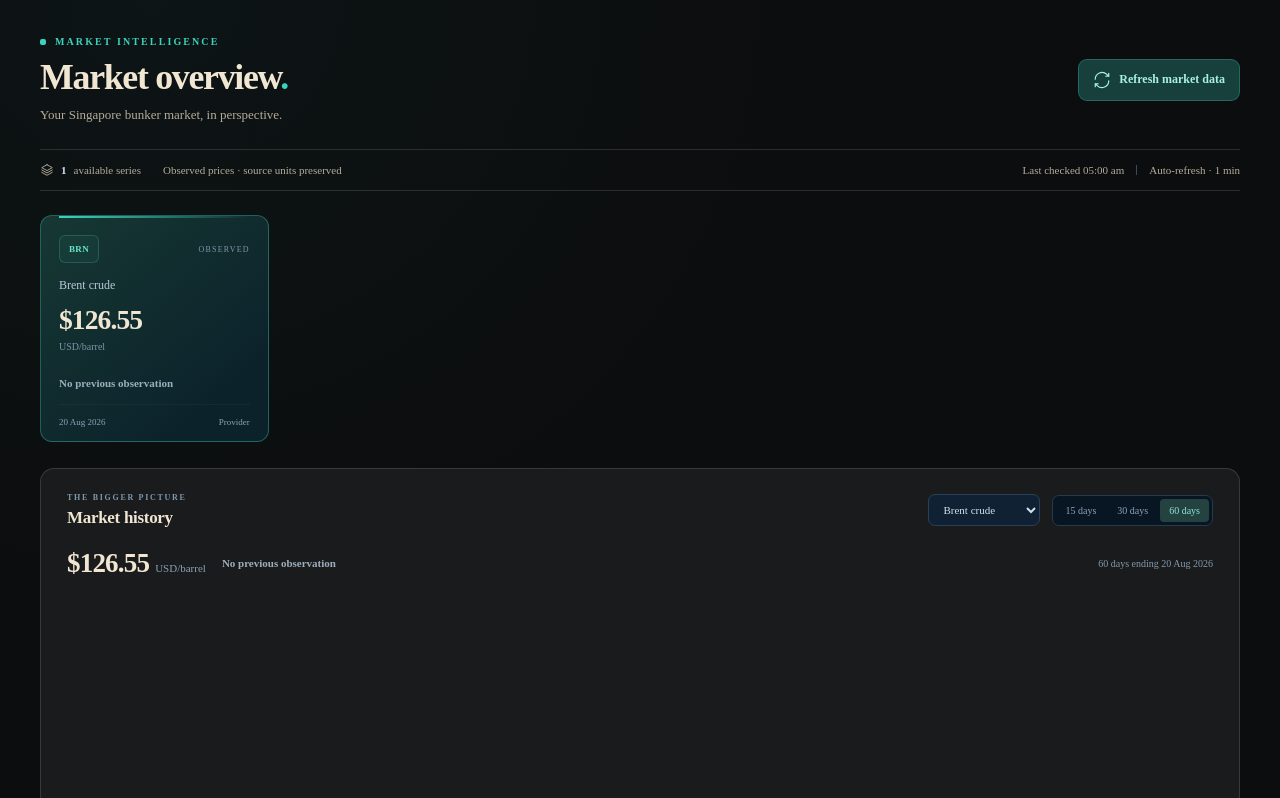
Test: stored market dashboard › changes the displayed history range without inventing daily observations
What coordinates should you click on to do the following:
click the button "15 days"
I would click on:
 (1081, 510)
Its box is [1056,499,1105,522].
(page scrolled)
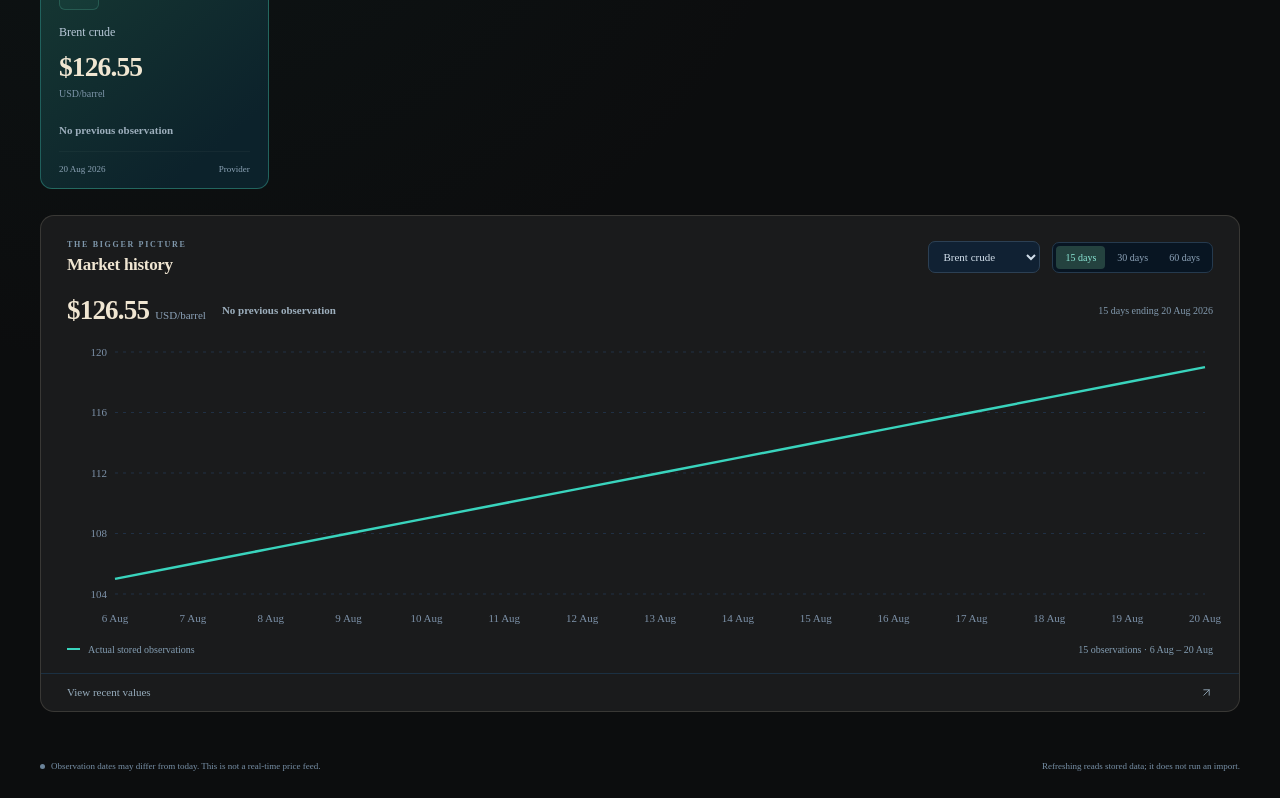
Check: the text "15 observations · 6 Aug – 20 Aug" is shown, box [1078,644,1213,655]
